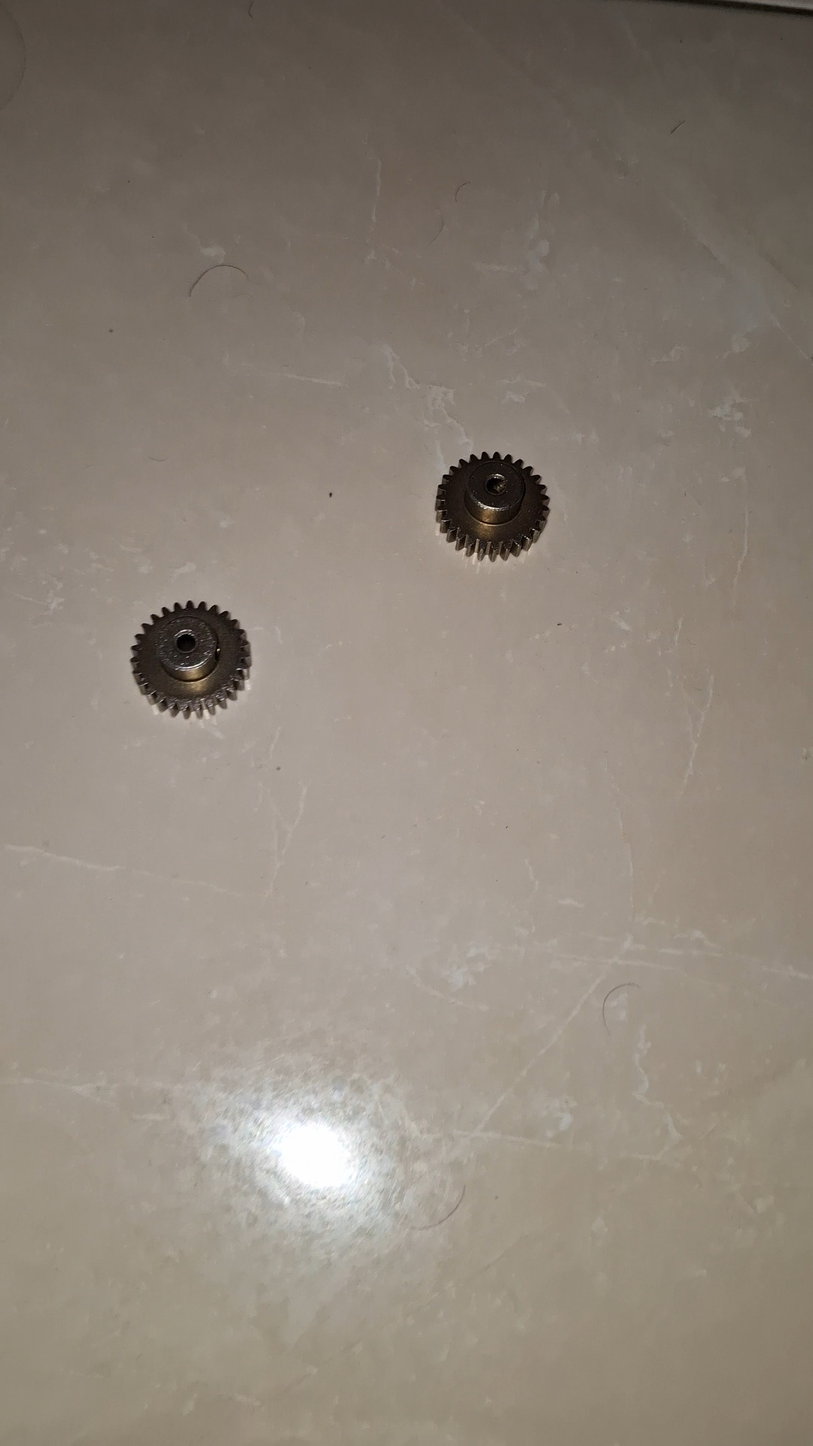spur gear: (132, 602, 250, 716), (436, 452, 549, 558)
